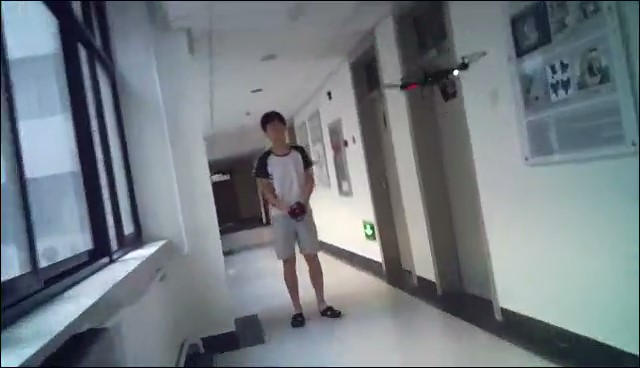drone: (378, 51, 490, 106)
person: (250, 110, 346, 330)
